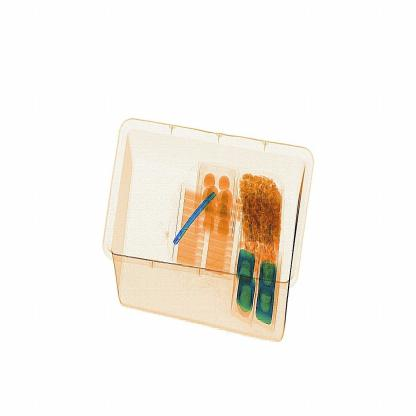pliers: (166, 188, 224, 253)
